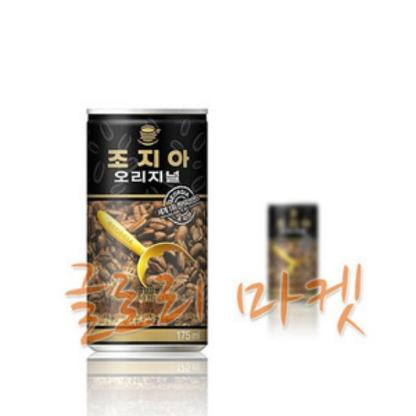Can: (81, 106, 210, 354)
